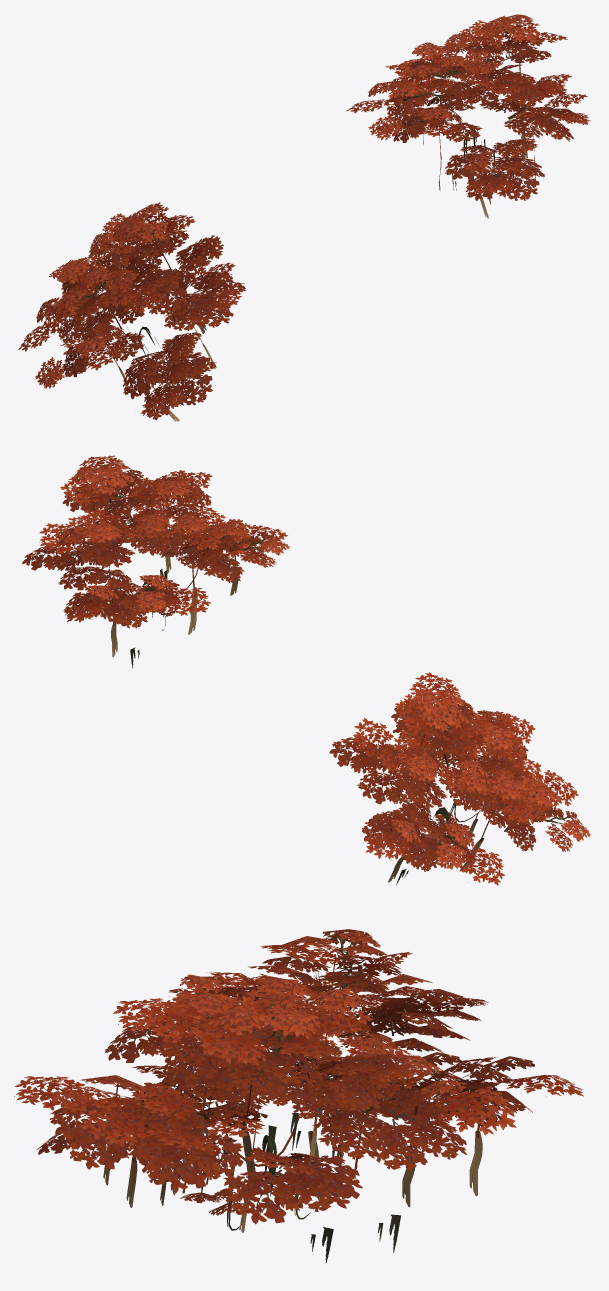
3 views of the same model, one above another, from view 1: azimuth 30°, elevation 25°; view 2: azimuth 150°, elevation 25°; view 3: azimuth 270°, elevation 25° (orthographic). The views are drawn at different scales.
Visible parts, largest first — view 1: 53001_02_03; view 2: 53001_02_03; view 3: 53001_02_03.
Part boxes in pixels (<box>): 53001_02_03: <box>18,14,590,421</box>; 53001_02_03: <box>22,455,590,885</box>; 53001_02_03: <box>14,929,583,1262</box>.
Size of the model in its own units: 1957 by 1094 by 1085.
